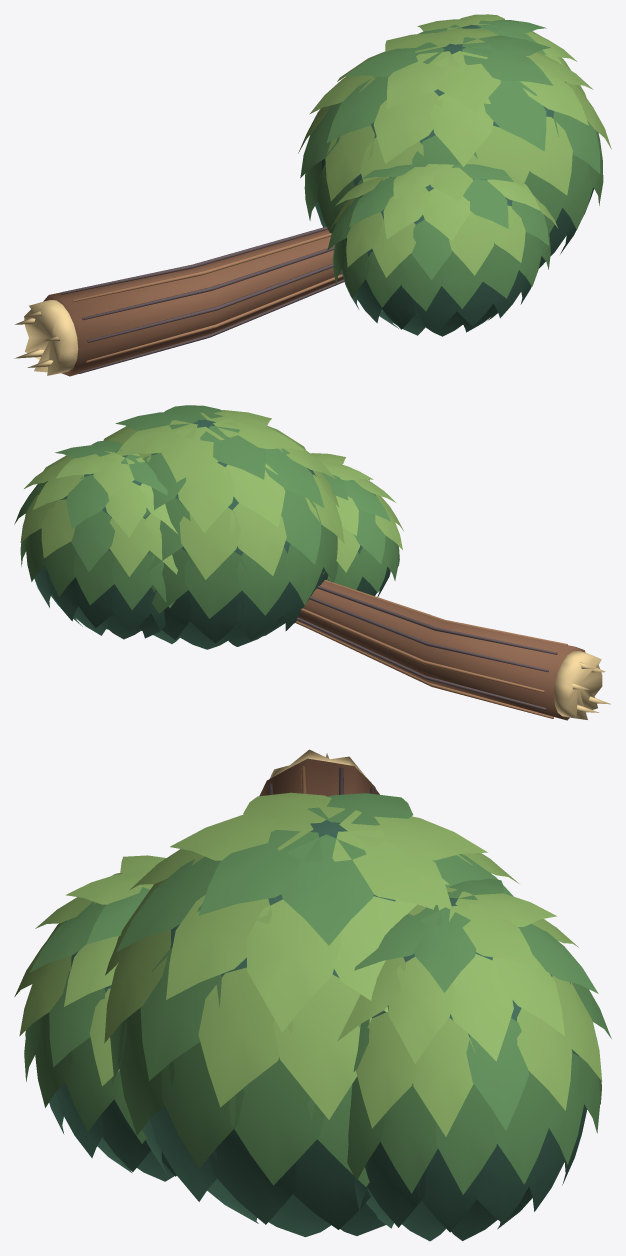
File: SM_SF_FreshFallenTree.fbx
The picture shows the model from 3 angles, top to bottom: view 1: azimuth 30°, elevation 25°; view 2: azimuth 150°, elevation 25°; view 3: azimuth 270°, elevation 25°; orthographic projection. The views are drawn at different scales.
Parts seen in each view (by area): view 1: SM_SF_FreshFallenTree; view 2: SM_SF_FreshFallenTree; view 3: SM_SF_FreshFallenTree.
Boxes of the visible parts, <box> form: SM_SF_FreshFallenTree: <box>14,14,611,376</box>; SM_SF_FreshFallenTree: <box>14,405,610,720</box>; SM_SF_FreshFallenTree: <box>14,749,611,1241</box>.
Bounding box in the file's own units: 7.22 × 3.81 × 2.69.
